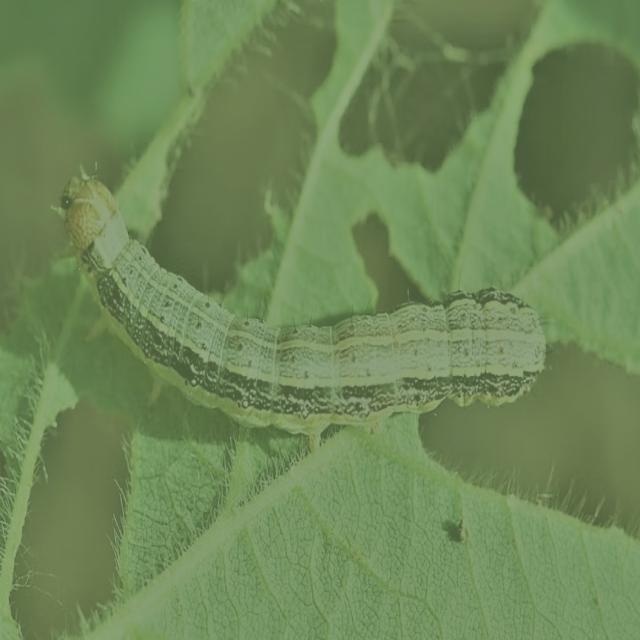armyworm: (50, 159, 548, 443)
